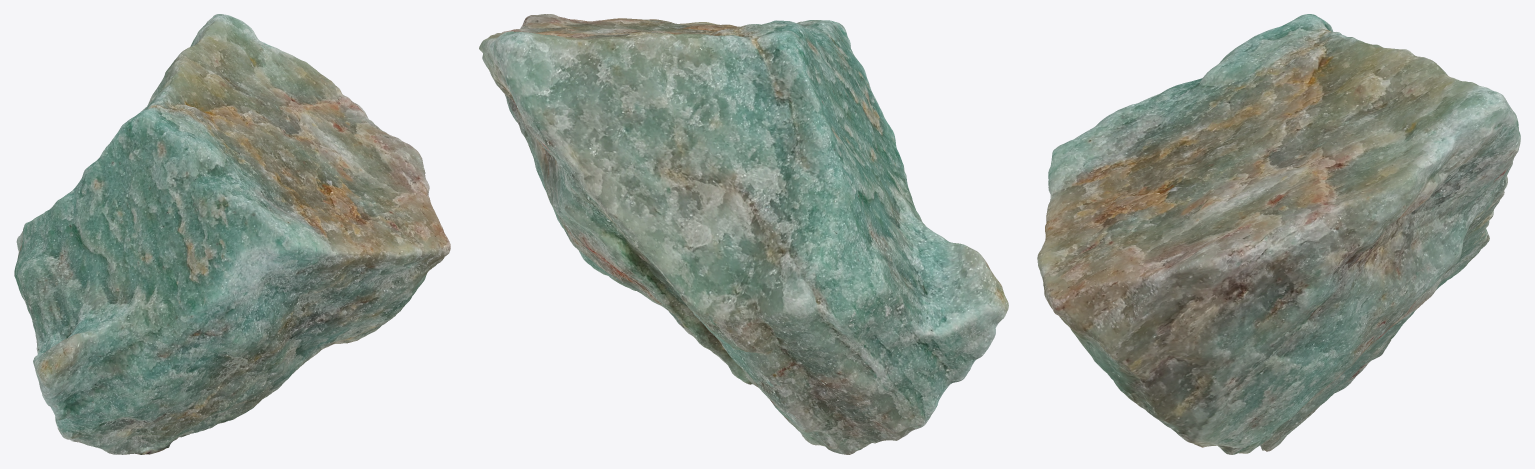
File: aventurine.glb
3 views of the same model, side by side, from view 1: azimuth 30°, elevation 25°; view 2: azimuth 150°, elevation 25°; view 3: azimuth 270°, elevation 25° (orthographic). The views are drawn at different scales.
Parts seen in each view (by area): view 1: Model_material0_0, Model_material1_0, Model_material2_0, Model_material3_0; view 2: Model_material2_0, Model_material3_0, Model_material0_0, Model_material1_0; view 3: Model_material0_0, Model_material3_0, Model_material2_0, Model_material1_0.
Part boxes in pixels (x1=…): Model_material0_0: x1=46, y1=15, x2=450, y2=322; Model_material1_0: x1=33, y1=281, x2=395, y2=444; Model_material2_0: x1=14, y1=181, x2=450, y2=454; Model_material3_0: x1=57, y1=14, x2=227, y2=201; Model_material2_0: x1=561, y1=41, x2=989, y2=454; Model_material3_0: x1=493, y1=33, x2=842, y2=375; Model_material0_0: x1=479, y1=14, x2=914, y2=240; Model_material1_0: x1=742, y1=176, x2=1008, y2=384; Model_material0_0: x1=1037, y1=14, x2=1488, y2=378; Model_material3_0: x1=1167, y1=14, x2=1520, y2=449; Model_material2_0: x1=1054, y1=176, x2=1507, y2=451; Model_material1_0: x1=1126, y1=395, x2=1260, y2=454.
Bounding box in the file's own units: 2.87 × 2.49 × 2.39.
Materials: 4 (4 with a texture image).
